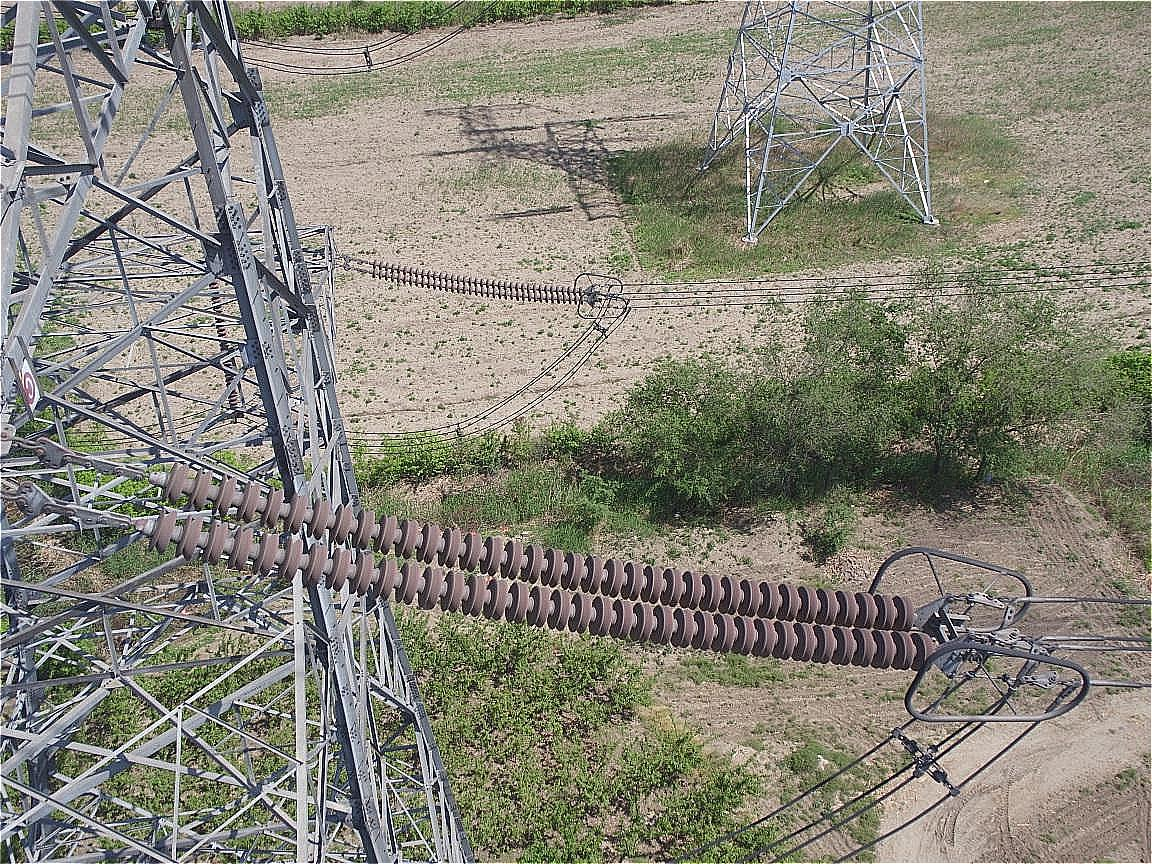insultor1: (371, 261, 584, 303)
insultor2: (149, 463, 936, 672)
